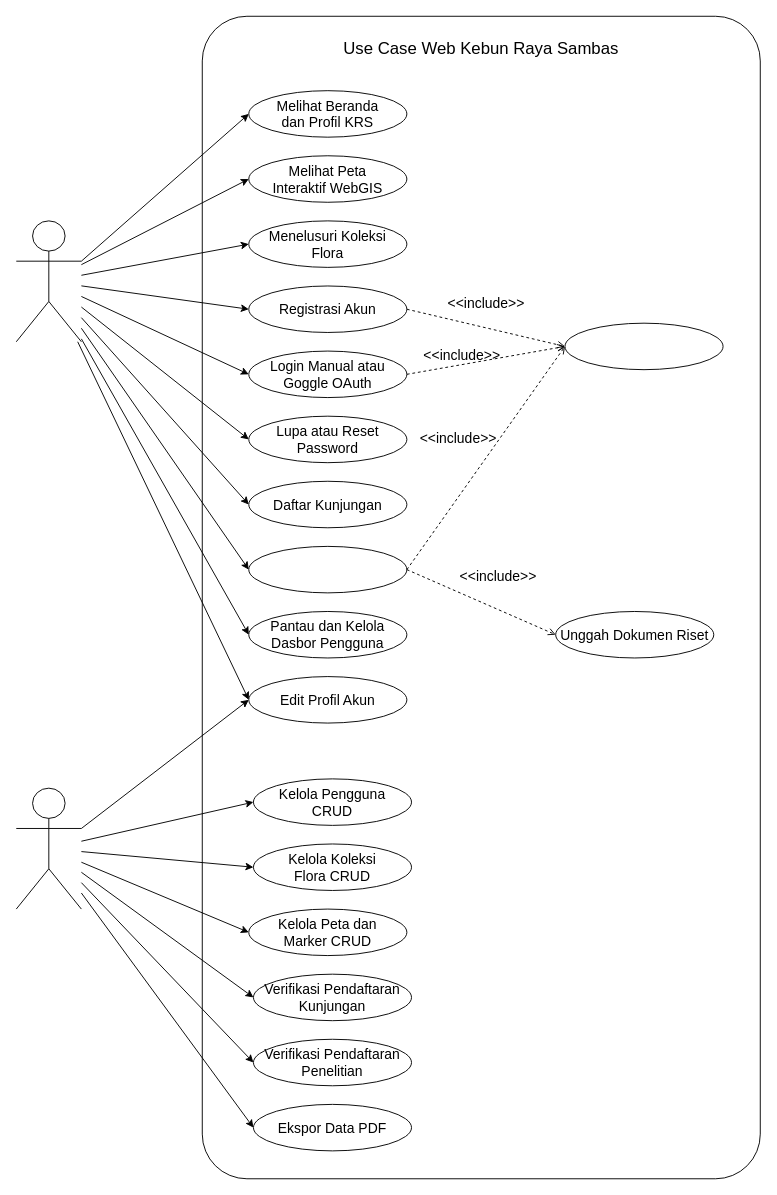
Some shapes in this 777 by 1195 pixel diagram are drawn without their labels. Each missing label, with the box of its shape:
Admin: (15, 787, 81, 909)
Daftar Izin Penelitian: (248, 545, 407, 593)
Pengguna: (15, 220, 81, 342)
Verifikasi Email: (564, 322, 723, 370)
